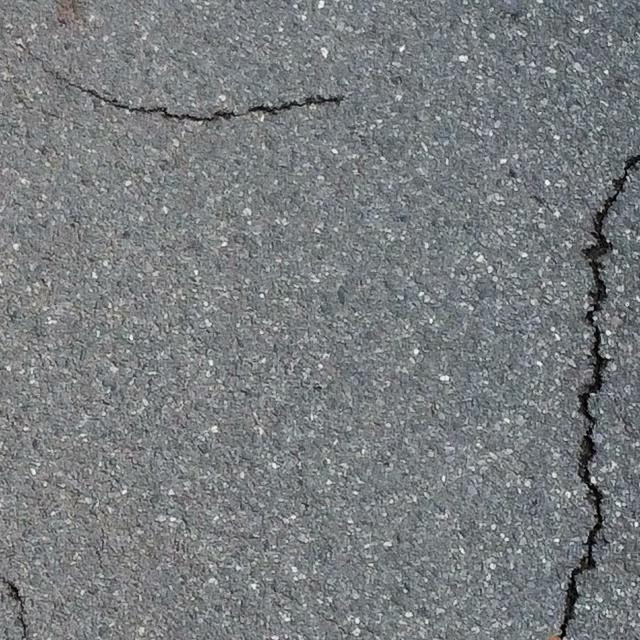LongitudinalCrack: (556, 154, 640, 638), (1, 578, 29, 640)
TransverseCrack: (30, 49, 349, 120)
